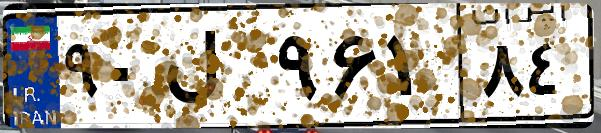0: (110, 28, 158, 98)
1: (385, 28, 445, 110)
4: (525, 38, 570, 115)
6: (330, 28, 385, 110)
8: (475, 38, 525, 113)
9: (270, 28, 330, 110), (57, 26, 110, 100)
ل: (158, 20, 270, 120)
